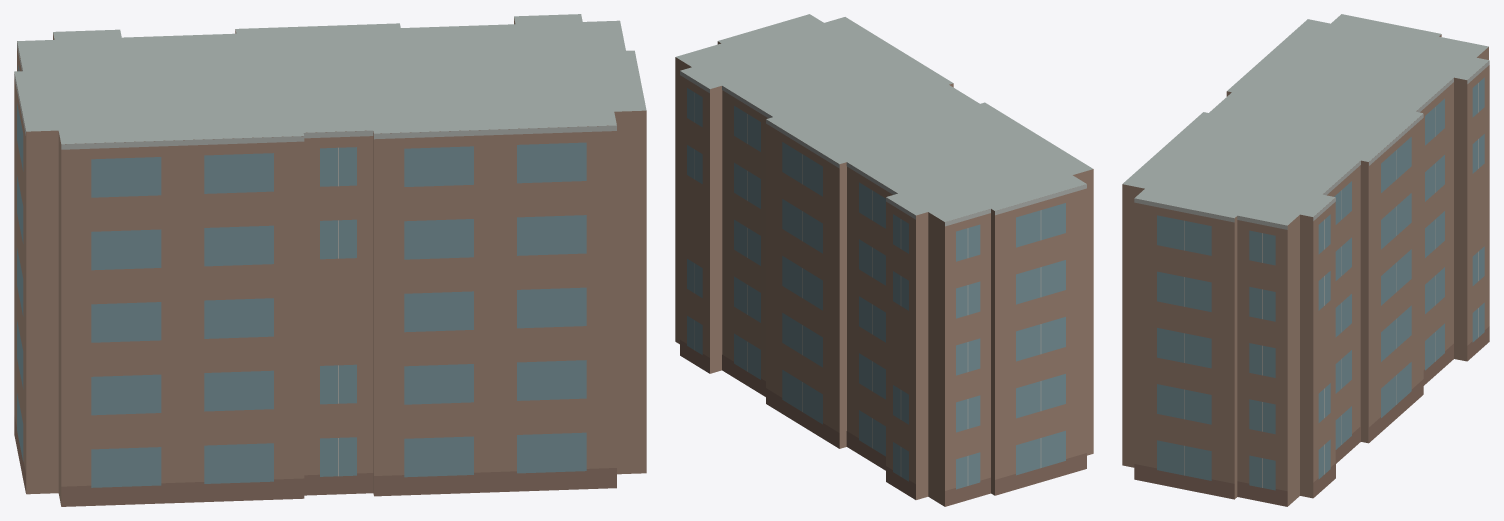
File: survey-upis-32983312.glb
The picture shows the model from 3 angles, left to right: view 1: azimuth 30°, elevation 25°; view 2: azimuth 150°, elevation 25°; view 3: azimuth 270°, elevation 25°; orthographic projection. The views are drawn at different scales.
Visible parts, largest first — view 1: survey-upis-32983312.tmp; view 2: survey-upis-32983312.tmp; view 3: survey-upis-32983312.tmp.
Part boxes in pixels (x1,y1,x2,y2): survey-upis-32983312.tmp: [14, 14, 646, 506]; survey-upis-32983312.tmp: [675, 14, 1093, 506]; survey-upis-32983312.tmp: [1122, 14, 1489, 506].
Size of the model in its own units: 25.83 by 16 by 18.95.
